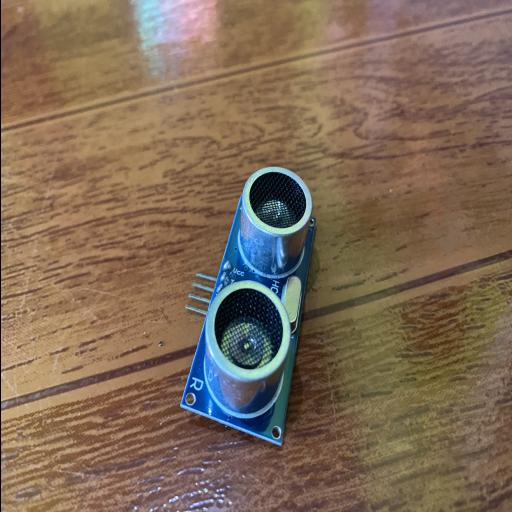Ultrasonic Sensor: (178, 166, 316, 448)
